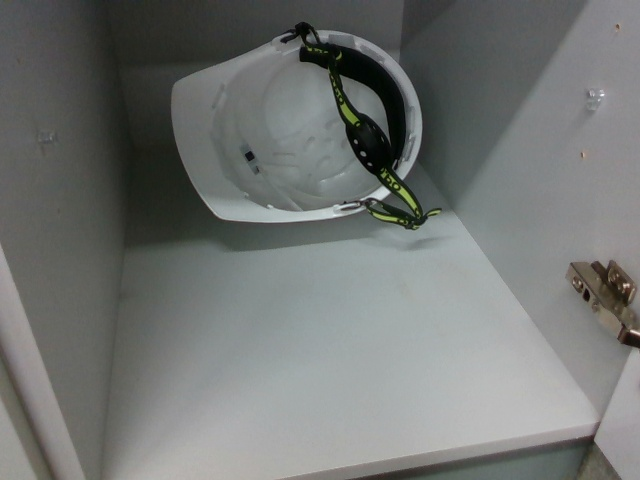helmet: (165, 26, 424, 236)
